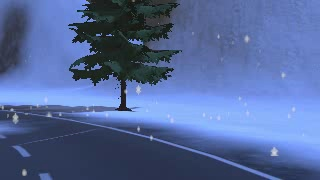Lane: (0, 109, 282, 179)
